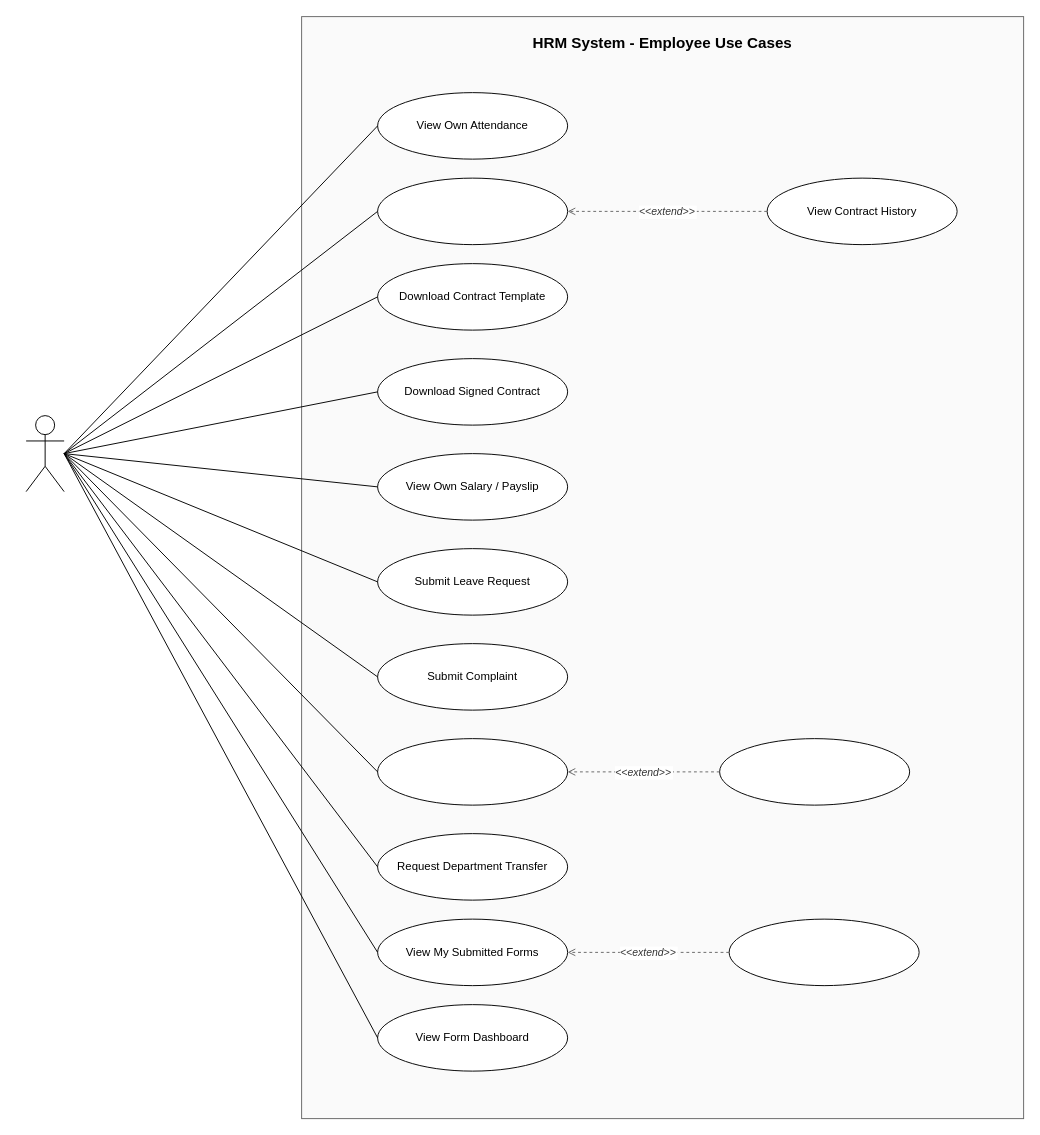
This 1040x1135 diagram has some shape labels left out. The centre of each missing label's shape, as x and y in pixels:
Check Dependent Status: (814,771)
Employee: (44,453)
Register Dependent: (472,771)
View Form Request Detail: (823,952)
View Own Employment Contract: (472,211)
